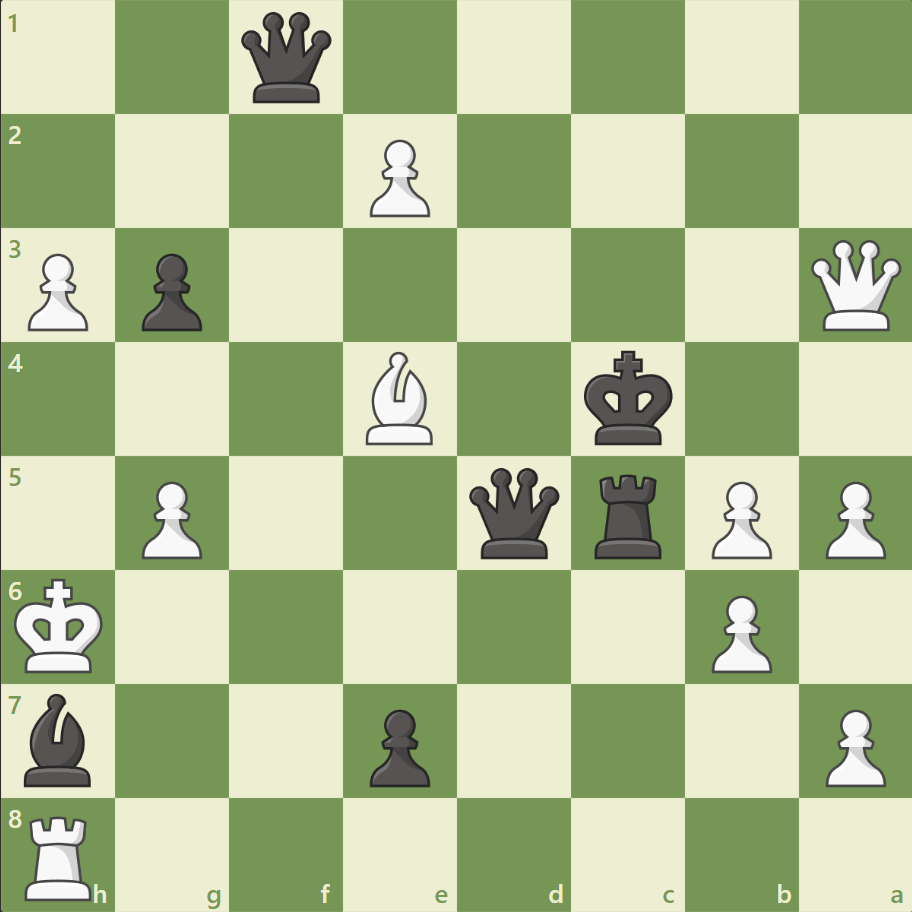B: (358, 347, 442, 449)
K: (11, 571, 111, 679)
P: (701, 586, 776, 677), (701, 473, 776, 564), (133, 473, 208, 564), (20, 246, 95, 337), (815, 700, 889, 791), (815, 473, 889, 564), (361, 132, 435, 223)
Q: (805, 236, 904, 335)
R: (19, 806, 102, 904)
b: (17, 687, 101, 790)
k: (579, 344, 679, 452)
p: (133, 246, 208, 337), (361, 700, 435, 791)
q: (464, 463, 563, 562), (237, 9, 336, 108)
r: (587, 466, 670, 563)
